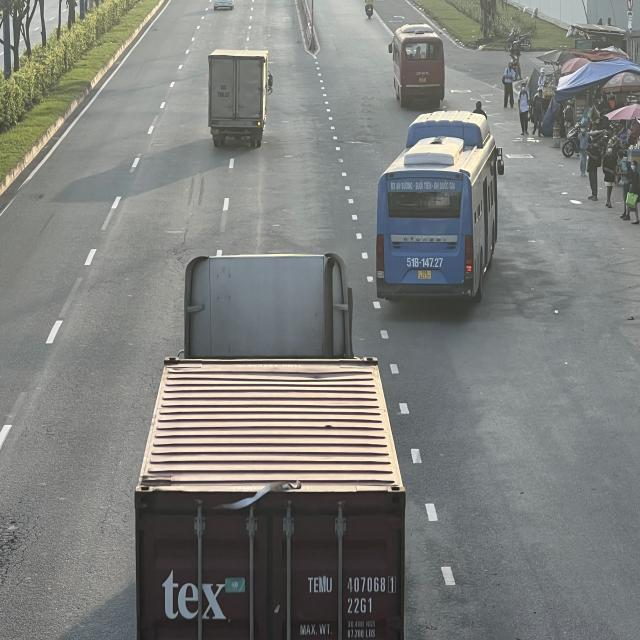coach: (376, 107, 502, 303), (391, 26, 447, 107)
container: (136, 252, 410, 638)
truck: (206, 48, 272, 147)
